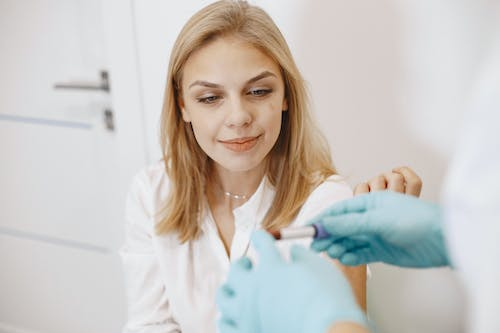blood: (269, 224, 317, 242)
